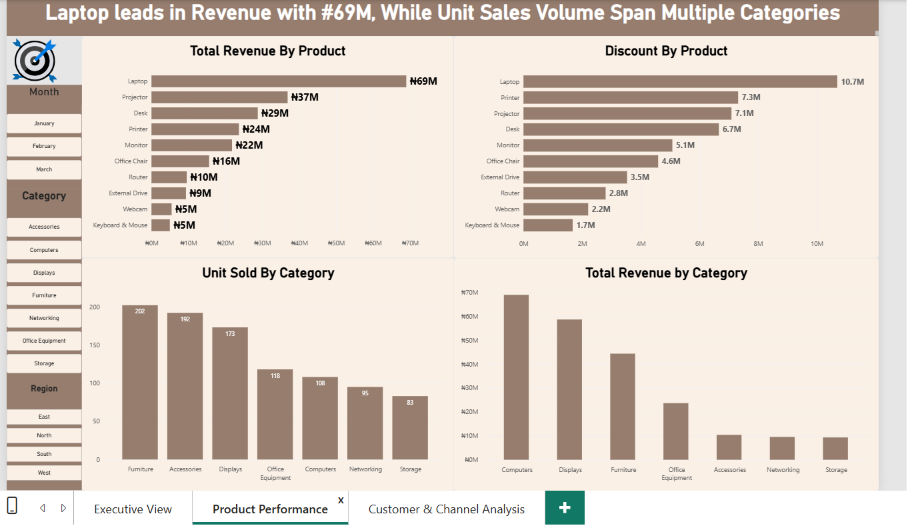

The dashboard page shown, as its layout file describes it:
{"tool":"powerbi","page":{"name":"Product Performance","canvas":[1920,1080],"ordinal":1},"visuals":[{"type":"barChart","title":"Total Revenue By Product","fields":{"Category":["techpoint_retail product.Product"],"Y":["techpoint_retail customers.Total Revenue"]},"box":[165.1,79.2,818.8,488.7],"z":0},{"type":"clusteredColumnChart","title":"Unit Sold By Category","fields":{"Category":["techpoint_retail product.Category"],"Y":["techpoint_retail customers.Unit Sold"]},"box":[165.1,567.9,821,512.9],"z":1000},{"type":"barChart","title":"Discount By Product","fields":{"Category":["techpoint_retail product.Product"],"Y":["Sum(techpoint_retail sales.Discount Amount (NGN))"]},"box":[984.3,79,935.7,489.1],"z":2000},{"type":"clusteredColumnChart","fields":{"Category":["techpoint_retail product.Category"],"Y":["techpoint_retail customers.Total Revenue"]},"box":[984.3,568.1,935.7,513.4],"z":3000},{"type":"textbox","title":"Laptop leads in Revenue with #69M, While Unit Sales Volume Span Multiple Categories","box":[0,0,1920,79],"z":4000},{"type":"advancedSlicerVisual","fields":{"Values":["techpoint_retail sales.Month"]},"box":[0,186.6,165.4,229.2],"z":5000},{"type":"advancedSlicerVisual","fields":{"Values":["techpoint_retail sales.Category"]},"box":[0,415.8,165.4,430],"z":6000},{"type":"advancedSlicerVisual","fields":{"Values":["techpoint_retail sales.Region"]},"box":[0,843.5,165.4,236.3],"z":7000},{"type":"image","box":[0,79,124.6,109.4],"z":8000}]}

Visuals, with their boxes on the page's 1920x1080 design canvas (x1, y1, x2, y2). These are canvas units, not pixel positions in the 907x525 screenshot, which may show the page scaled, cropped or inside an application window:
"Total Revenue By Product" barChart: <region>165, 79, 984, 568</region>
"Unit Sold By Category" clusteredColumnChart: <region>165, 568, 986, 1081</region>
"Discount By Product" barChart: <region>984, 79, 1920, 568</region>
clusteredColumnChart - techpoint_retail product.Category x techpoint_retail customers.Total Revenue: <region>984, 568, 1920, 1082</region>
"Laptop leads in Revenue with #69M, While Unit Sales Volume Span Multiple Categories" textbox: <region>0, 0, 1920, 79</region>
advancedSlicerVisual - techpoint_retail sales.Month: <region>0, 187, 165, 416</region>
advancedSlicerVisual - techpoint_retail sales.Category: <region>0, 416, 165, 846</region>
advancedSlicerVisual - techpoint_retail sales.Region: <region>0, 844, 165, 1080</region>
image: <region>0, 79, 125, 188</region>
